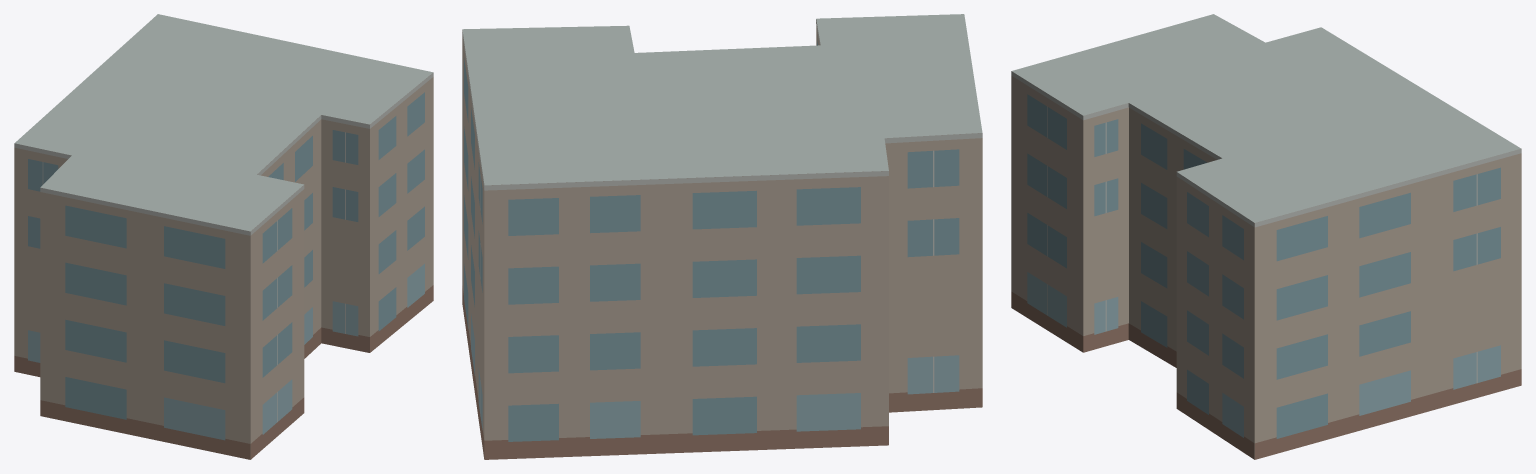
Rendered from survey-upis-32774602.glb.
3 views of the same model, side by side, from view 1: azimuth 30°, elevation 25°; view 2: azimuth 150°, elevation 25°; view 3: azimuth 270°, elevation 25° (orthographic). The views are drawn at different scales.
Parts seen in each view (by area): view 1: survey-upis-32774602.tmp; view 2: survey-upis-32774602.tmp; view 3: survey-upis-32774602.tmp.
Boxes of the visible parts, <box> form: survey-upis-32774602.tmp: <box>14,14,433,459</box>; survey-upis-32774602.tmp: <box>462,14,982,459</box>; survey-upis-32774602.tmp: <box>1011,14,1521,459</box>.
Bounding box in the file's own units: 24.23 × 12.8 × 24.99.
